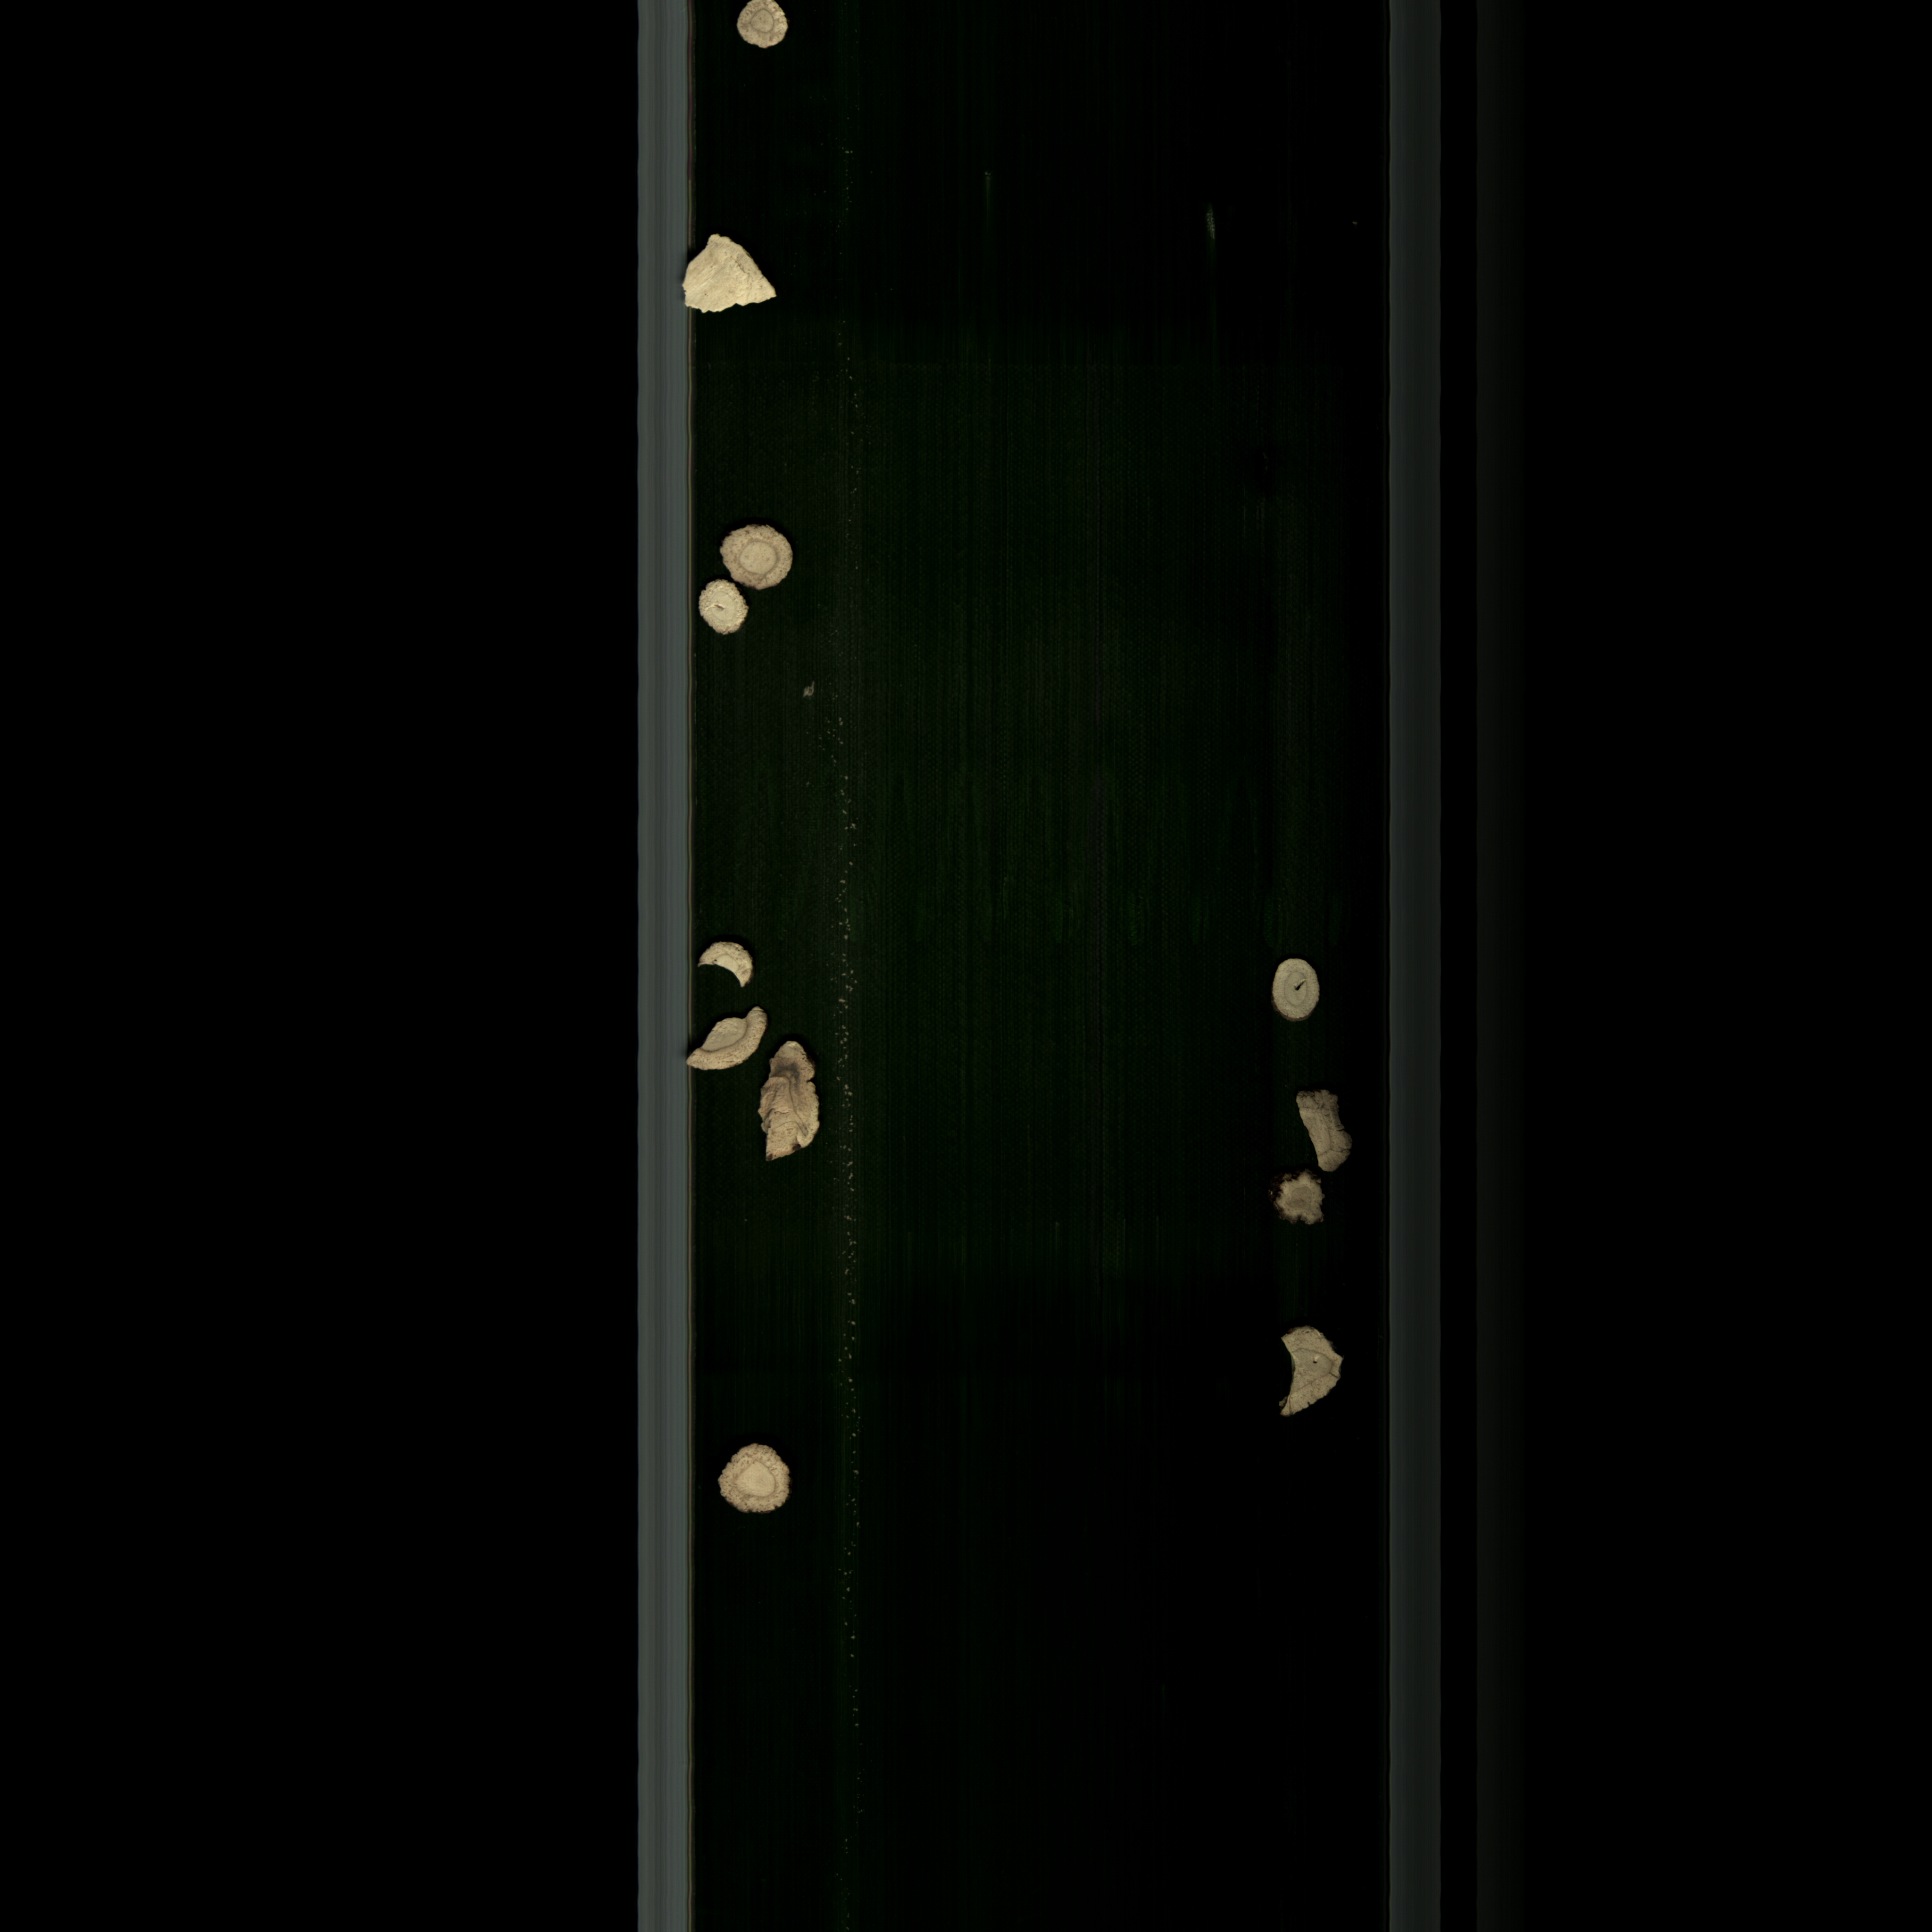debris: (676, 225, 786, 324), (1270, 1325, 1357, 1431), (678, 1007, 770, 1070), (692, 938, 764, 991)
hole: (1265, 954, 1327, 1035), (697, 579, 759, 639)
moldy: (759, 1040, 828, 1173), (1290, 1077, 1359, 1177), (709, 1444, 805, 1514), (722, 513, 800, 591), (1272, 1162, 1338, 1235), (717, 0, 798, 55)
